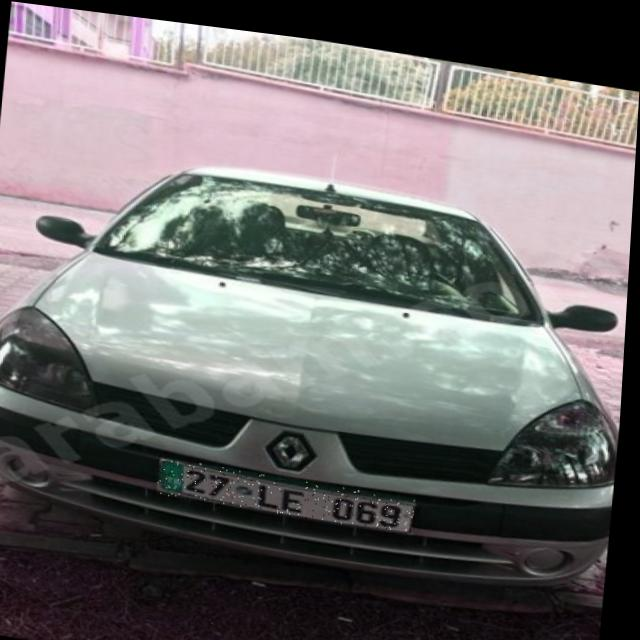license_plate: (161, 452, 421, 523)
